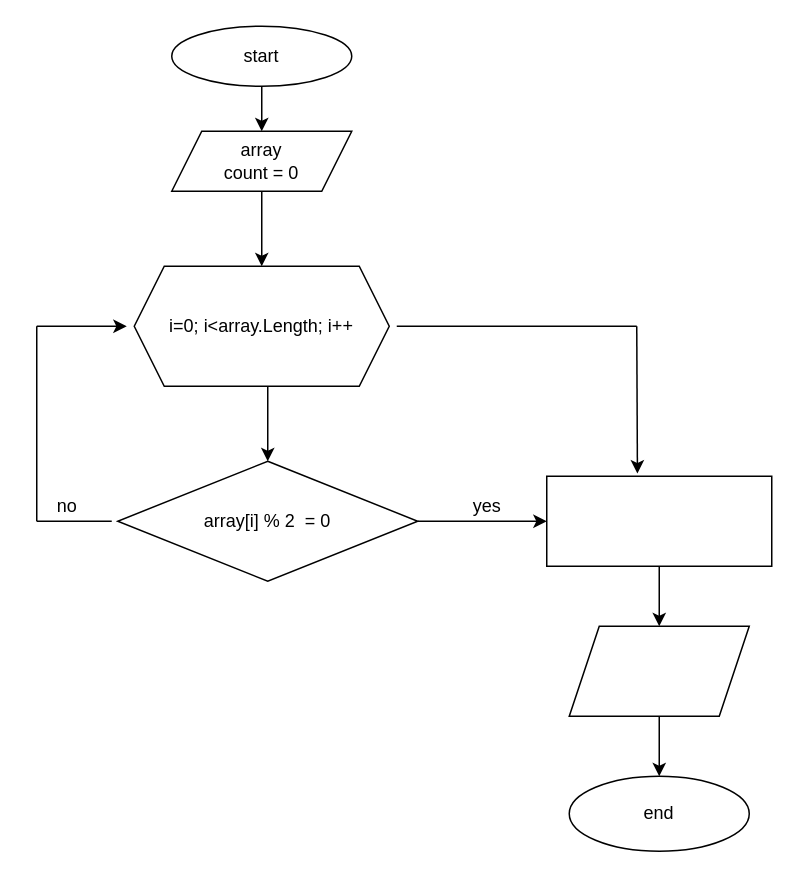
Image size: 798x878. Some labels were removed from this diagram. The centre of each missing label's shape, as x and y in pixels:
"count = count + array[i]" goes at (x=658, y=520).
"print: count+1" goes at (x=658, y=670).
